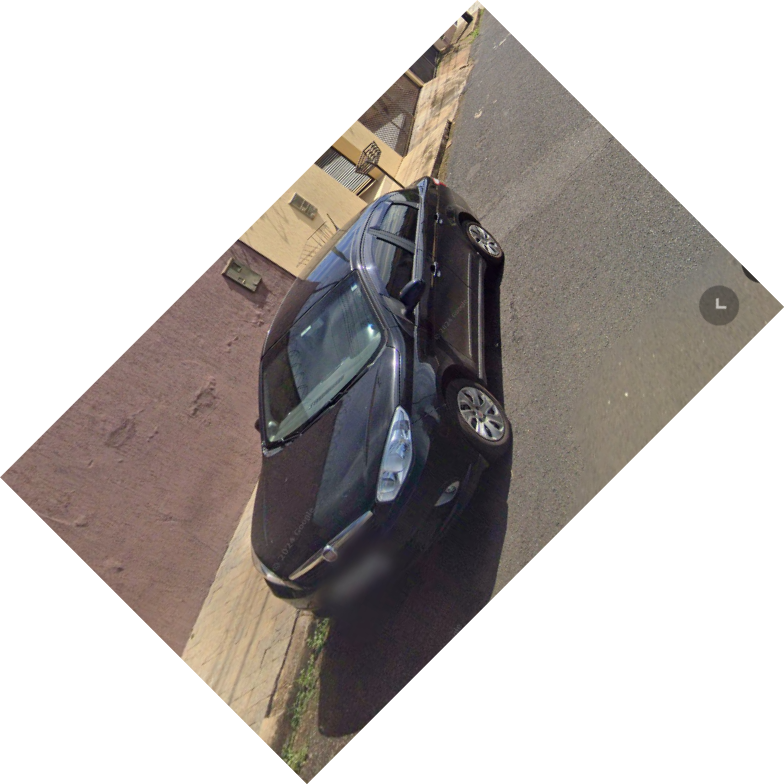car: (251, 172, 519, 640)
